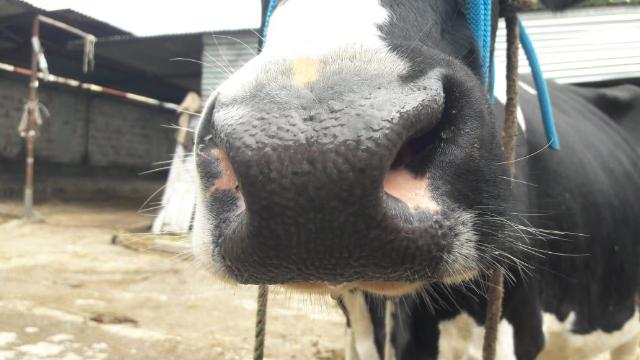Muzzle: (236, 114, 384, 262)
